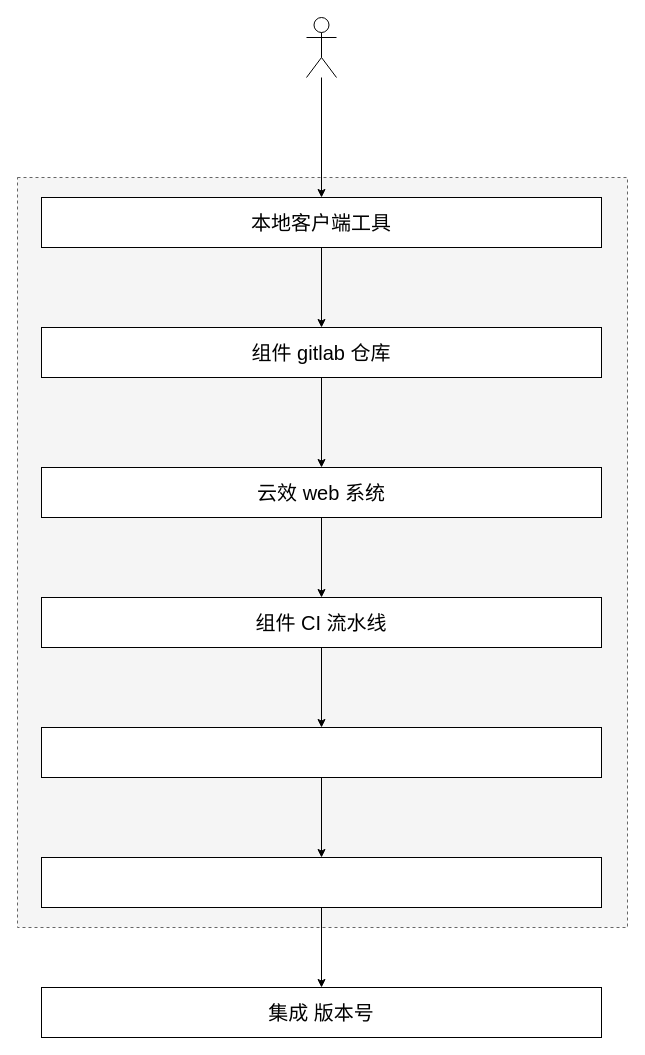
The diagram is 645 pixels wide and 1055 high, and some of its shapes have lost their labels. The centre of each missing label's shape, as x and y in pixels:
发布 版本号: the point at 321,882
合并代码: the point at 321,752
组件仓库 RD: the point at 321,47
